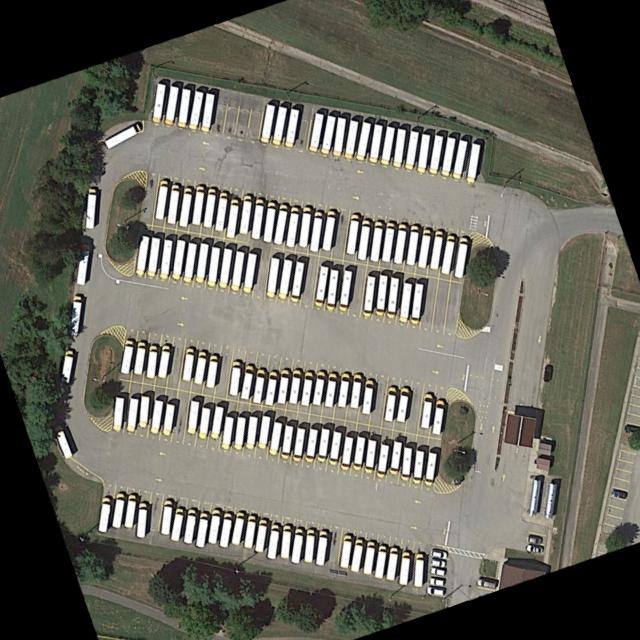large-vehicle: (104, 124, 141, 151), (52, 426, 73, 461), (258, 104, 275, 145), (450, 141, 467, 182), (464, 144, 480, 187), (177, 186, 193, 229), (307, 115, 323, 156), (427, 135, 443, 176), (289, 262, 305, 303), (277, 259, 293, 300), (164, 85, 179, 128), (453, 236, 468, 279), (403, 131, 419, 171), (342, 120, 358, 160), (283, 109, 299, 149), (440, 138, 456, 178), (242, 254, 258, 294), (229, 252, 245, 292), (265, 257, 280, 299), (217, 248, 232, 290), (181, 242, 196, 284), (369, 220, 383, 264), (320, 116, 335, 157), (331, 117, 346, 158), (271, 107, 286, 148), (67, 295, 82, 336), (440, 234, 455, 275), (170, 240, 185, 281), (375, 274, 389, 317), (415, 134, 430, 174), (194, 244, 209, 284), (75, 245, 89, 287), (409, 284, 423, 326), (338, 270, 352, 312), (325, 270, 339, 312), (250, 199, 264, 241), (322, 209, 336, 251), (147, 237, 161, 279), (188, 92, 203, 131), (416, 229, 430, 270), (361, 276, 375, 317), (190, 186, 204, 227), (202, 188, 216, 229), (284, 207, 298, 248), (367, 125, 382, 163), (355, 123, 370, 161), (208, 406, 224, 441), (253, 518, 269, 553), (392, 129, 406, 169), (83, 190, 97, 230), (314, 267, 328, 307), (225, 200, 239, 240), (273, 206, 287, 246), (135, 237, 149, 277), (218, 513, 233, 550), (194, 512, 209, 549), (380, 127, 394, 166), (386, 277, 399, 319), (398, 283, 411, 325), (393, 223, 406, 265), (238, 196, 252, 235), (155, 179, 168, 221), (214, 193, 228, 232), (160, 239, 173, 281), (384, 548, 400, 582), (204, 354, 219, 390), (430, 231, 443, 272), (166, 185, 179, 226), (309, 211, 322, 252), (207, 247, 220, 288), (290, 527, 304, 565), (200, 94, 214, 132), (431, 398, 445, 436), (151, 85, 165, 123), (349, 539, 364, 574), (206, 510, 221, 545), (170, 508, 185, 543), (395, 389, 410, 424), (177, 89, 190, 129), (345, 216, 358, 256), (315, 530, 329, 567), (383, 386, 397, 423), (287, 369, 301, 406), (336, 372, 350, 409), (275, 369, 289, 406), (239, 364, 253, 401), (266, 524, 280, 560), (111, 494, 125, 530), (97, 498, 111, 534), (299, 207, 311, 249), (311, 371, 325, 407), (323, 372, 337, 408), (264, 371, 278, 407), (119, 340, 133, 376), (338, 535, 353, 568), (59, 351, 74, 384), (252, 367, 265, 405), (406, 226, 418, 267), (381, 223, 393, 264), (357, 220, 369, 261), (243, 515, 257, 550), (123, 494, 137, 529), (420, 392, 433, 429), (160, 500, 173, 537), (361, 379, 374, 416), (362, 542, 376, 576), (111, 398, 125, 432), (230, 513, 244, 547), (183, 509, 196, 545), (349, 374, 362, 410), (257, 417, 271, 450), (186, 401, 200, 434), (327, 432, 341, 465), (340, 438, 354, 471), (263, 202, 274, 244), (398, 552, 411, 587), (145, 345, 158, 380), (303, 530, 316, 564), (221, 417, 234, 451), (305, 429, 318, 463), (352, 436, 365, 470), (228, 361, 240, 397), (373, 546, 386, 579), (233, 418, 246, 451), (375, 445, 388, 478), (126, 398, 138, 433), (269, 423, 282, 455), (198, 409, 211, 441), (317, 429, 329, 463), (390, 442, 402, 476), (364, 439, 376, 473), (181, 349, 193, 383), (194, 352, 206, 386), (281, 425, 293, 458), (300, 372, 311, 408), (400, 448, 412, 481), (158, 346, 170, 379), (136, 504, 147, 539), (293, 429, 305, 461), (150, 402, 162, 434), (138, 396, 150, 428), (280, 526, 291, 560), (425, 452, 436, 486), (133, 342, 144, 376), (162, 405, 174, 436), (246, 417, 257, 450), (412, 451, 423, 484), (413, 555, 422, 589)
small-vehicle: (610, 488, 628, 502), (430, 549, 447, 560), (542, 366, 552, 384), (476, 580, 496, 589), (525, 545, 543, 555), (427, 578, 443, 588), (425, 589, 444, 597), (526, 536, 542, 545), (430, 560, 445, 569), (429, 569, 445, 577)
